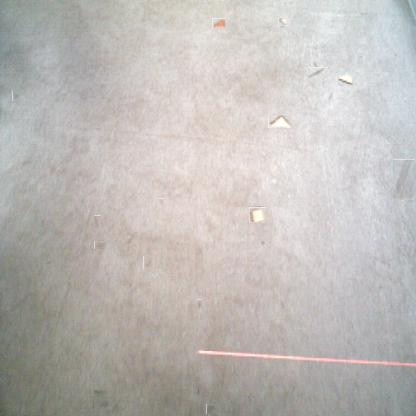dirty: (268, 115, 291, 128), (249, 207, 266, 222), (338, 73, 354, 85), (212, 18, 225, 29), (279, 18, 288, 27)
mark: (394, 159, 416, 200), (93, 390, 112, 410), (311, 65, 326, 80), (126, 232, 138, 244), (207, 404, 219, 415), (143, 256, 152, 270), (92, 217, 103, 228), (326, 88, 334, 102), (194, 382, 200, 398), (95, 241, 105, 250), (196, 299, 202, 312), (12, 91, 19, 101), (158, 198, 164, 209), (46, 260, 53, 268), (259, 237, 265, 245), (357, 54, 363, 59)
